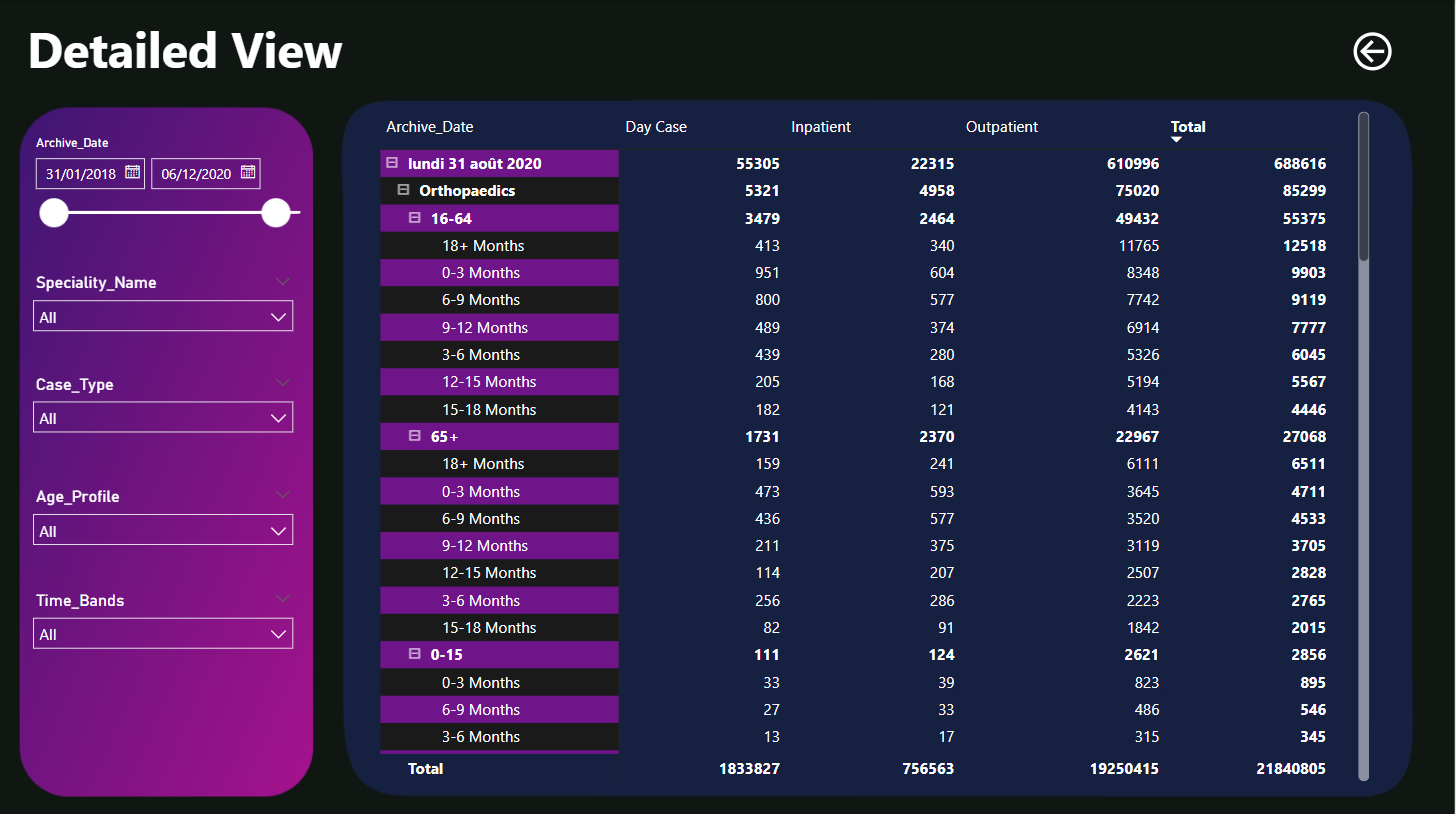

Layout of this report page (visuals, bound fields, positions):
{"tool":"powerbi","page":{"name":"Details","canvas":[1280,720],"ordinal":1},"visuals":[{"type":"slicer","fields":{"Values":["All_Data.Archive_Date"]},"box":[18.6,114,266.3,102.3],"z":0},{"type":"slicer","fields":{"Values":["All_Data.Speciality_Name"]},"box":[18.6,234.9,248.8,72.1],"z":1000},{"type":"textbox","box":[18.6,9.3,311.6,72.1],"z":2000},{"type":"pivotTable","fields":{"Rows":["All_Data.Archive_Date","All_Data.Speciality_Name","All_Data.Age_Profile","All_Data.Time_Bands"],"Columns":["All_Data.Case_Type"],"Values":["Sum(All_Data.Total)"]},"box":[330.2,93,879.1,598.8],"z":3000},{"type":"slicer","fields":{"Values":["All_Data.Case_Type"]},"box":[18.6,324.4,248.8,72.1],"z":4000},{"type":"slicer","fields":{"Values":["All_Data.Time_Bands"]},"box":[18.6,514,248.8,72.1],"z":5000},{"type":"slicer","fields":{"Values":["All_Data.Age_Profile"]},"box":[18.6,423.3,248.8,72.1],"z":6000},{"type":"actionButton","box":[1184.9,23.3,50,44.2],"z":7000}]}

Visuals, with their boxes in screenshot pixels (x1, y1, x2, y2), scaled from the page's 1280x720 canvas onto the 1456x814 screenshot:
slicer - All_Data.Archive_Date: [21,129,324,245]
slicer - All_Data.Speciality_Name: [21,266,304,347]
textbox: [21,11,376,92]
pivotTable - All_Data.Archive_Date x All_Data.Speciality_Name: [376,105,1376,782]
slicer - All_Data.Case_Type: [21,367,304,448]
slicer - All_Data.Time_Bands: [21,581,304,663]
slicer - All_Data.Age_Profile: [21,479,304,560]
actionButton: [1348,26,1405,76]
